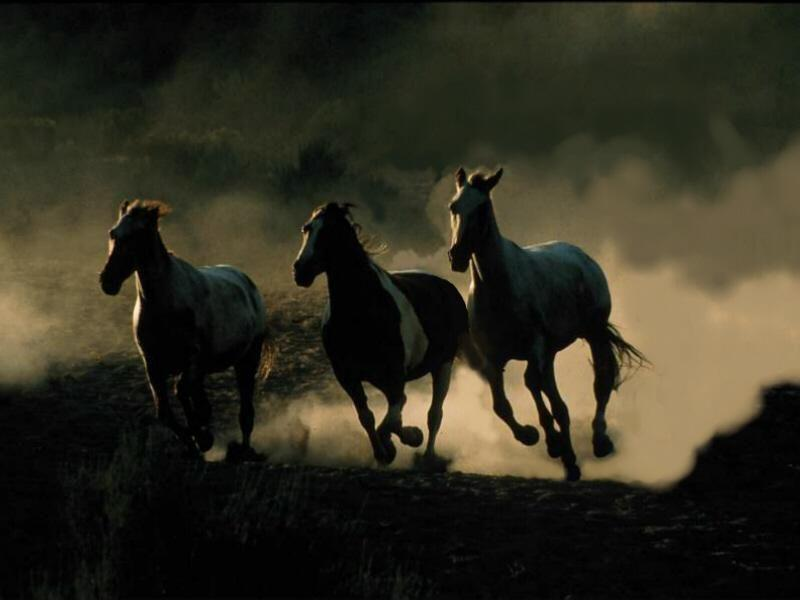Horse: (439, 163, 632, 477), (87, 198, 285, 471), (289, 192, 468, 474)
